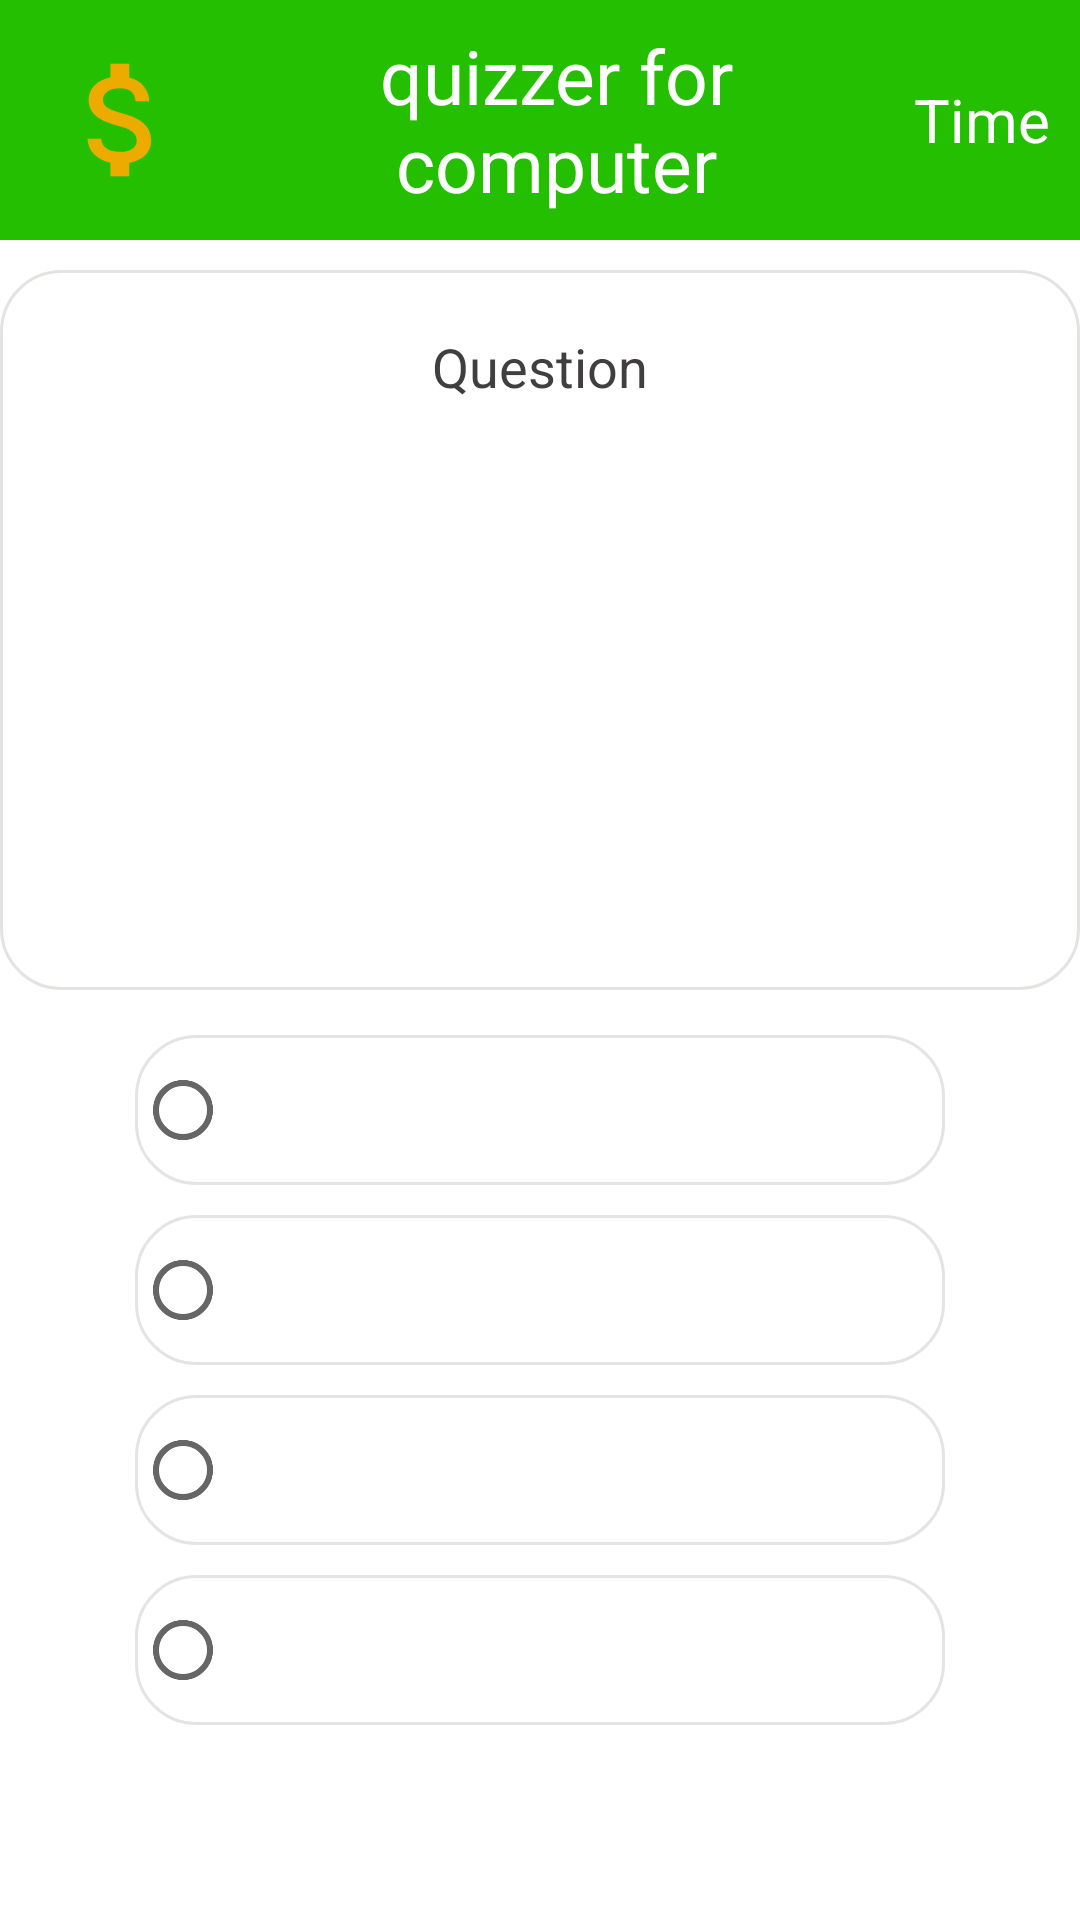

Icon click points for this 1080w x 1920h phone screenshot, format [x,y]:
attach money: [119,120]
